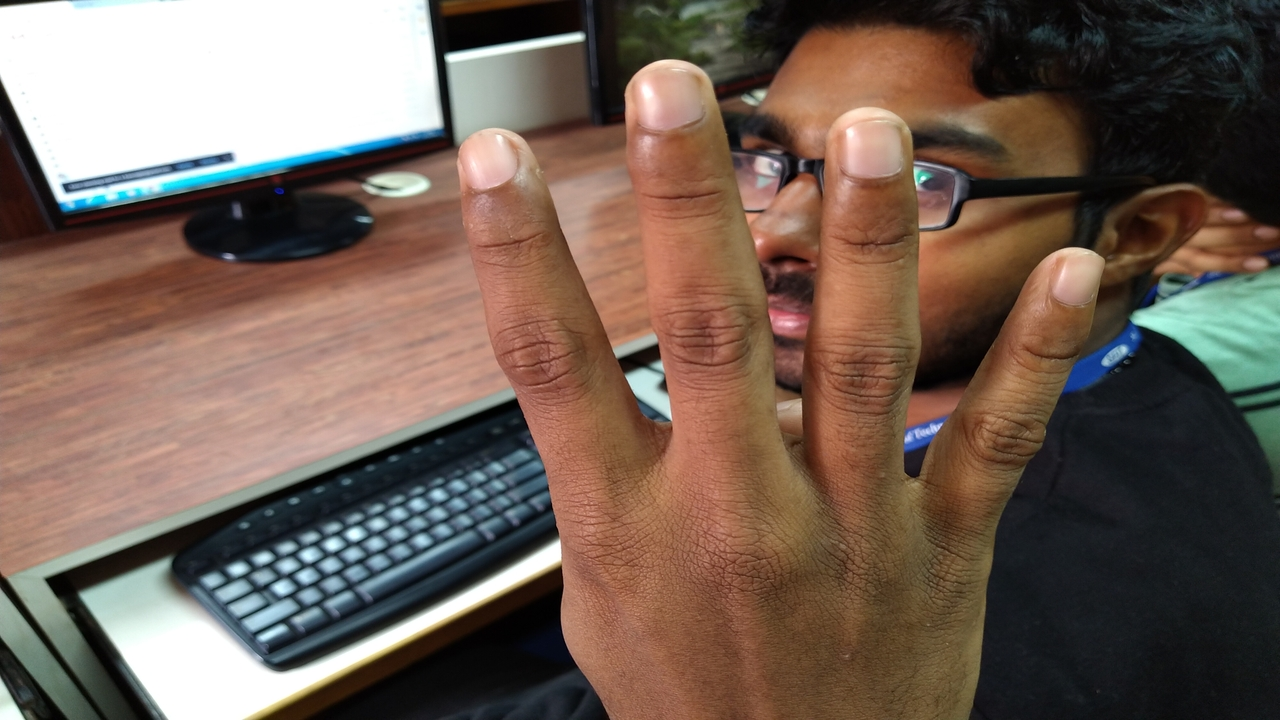fingertip: (810, 94, 923, 193), (599, 59, 722, 144), (442, 120, 542, 196), (1040, 244, 1106, 322)
